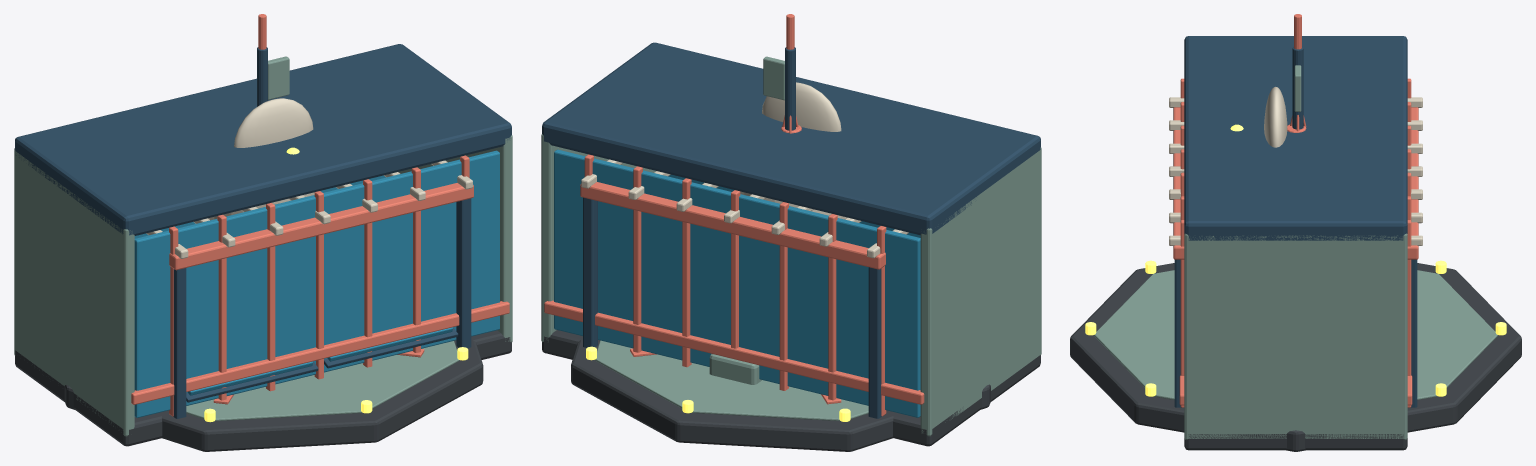
Rendered from SM_SolCity_RooftopModules_01.fbx.
3 renders of one model, left to right at view 1: azimuth 30°, elevation 25°; view 2: azimuth 150°, elevation 25°; view 3: azimuth 270°, elevation 25°, orthographic.
Visible parts, largest first — view 1: SM_SolCity_SkybridgeConnector_01, SM_SolCity_RooftopHelipad_01, SM_SolCity_RooftopPergola_01, SM_SolCity_RooftopAntenna_01, SM_SolCity_RooftopSolar_01; view 2: SM_SolCity_SkybridgeConnector_01, SM_SolCity_RooftopHelipad_01, SM_SolCity_RooftopPergola_01, SM_SolCity_RooftopAntenna_01, SM_SolCity_RooftopSolar_01; view 3: SM_SolCity_SkybridgeConnector_01, SM_SolCity_RooftopHelipad_01, SM_SolCity_RooftopPergola_01, SM_SolCity_RooftopAntenna_01.
Boxes of the visible parts, bbox=[...] form: SM_SolCity_SkybridgeConnector_01: bbox=[14, 44, 512, 446]; SM_SolCity_RooftopHelipad_01: bbox=[64, 336, 483, 451]; SM_SolCity_RooftopPergola_01: bbox=[146, 160, 473, 418]; SM_SolCity_RooftopAntenna_01: bbox=[234, 14, 313, 154]; SM_SolCity_RooftopSolar_01: bbox=[186, 327, 458, 402]; SM_SolCity_SkybridgeConnector_01: bbox=[541, 42, 1041, 446]; SM_SolCity_RooftopHelipad_01: bbox=[571, 340, 990, 451]; SM_SolCity_RooftopPergola_01: bbox=[580, 159, 908, 418]; SM_SolCity_RooftopAntenna_01: bbox=[762, 14, 841, 133]; SM_SolCity_RooftopSolar_01: bbox=[709, 354, 761, 384]; SM_SolCity_SkybridgeConnector_01: bbox=[1179, 36, 1412, 450]; SM_SolCity_RooftopHelipad_01: bbox=[1070, 260, 1521, 451]; SM_SolCity_RooftopPergola_01: bbox=[1169, 97, 1422, 407]; SM_SolCity_RooftopAntenna_01: bbox=[1230, 14, 1306, 147].
Bounding box in the file's own units: 6.08 × 6.08 × 5.08.
